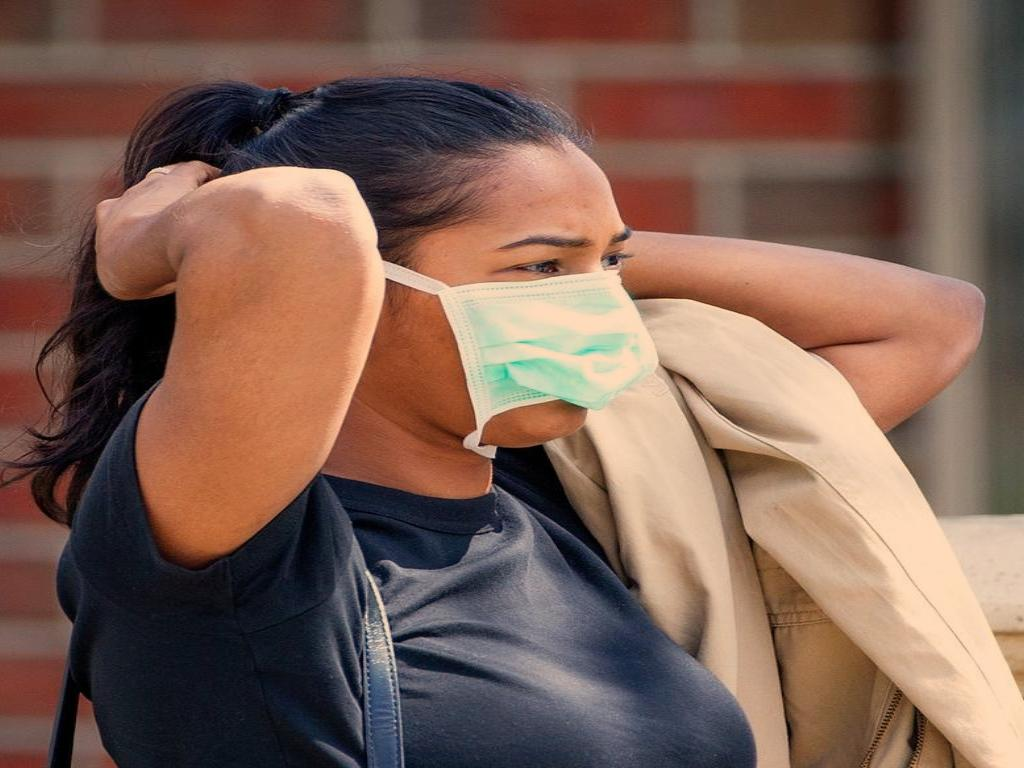mask_weared_incorrect: (223, 75, 664, 465)
